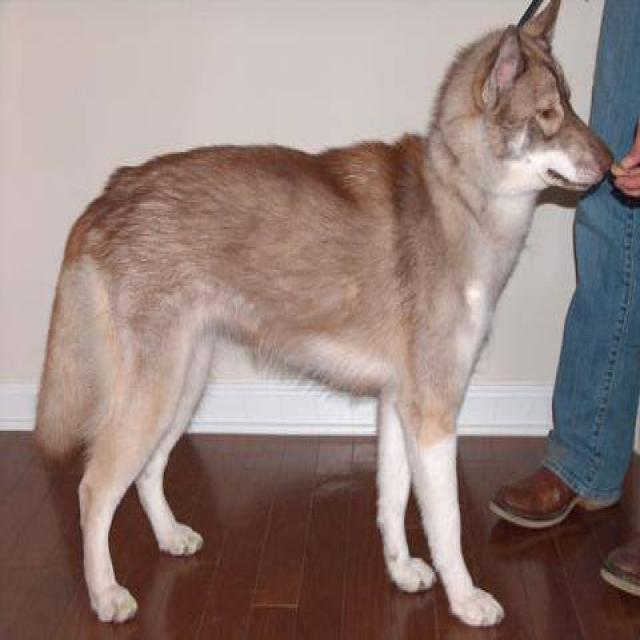dog: (30, 0, 614, 629)
